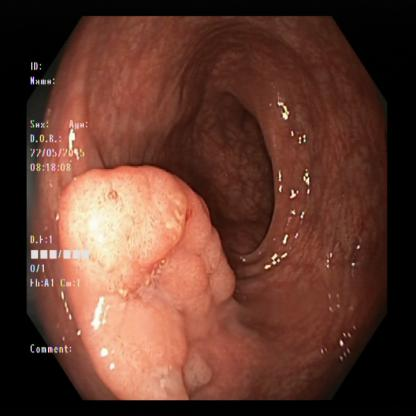Labels: (27, 56, 79, 358)
Polyps: (67, 156, 227, 391)
